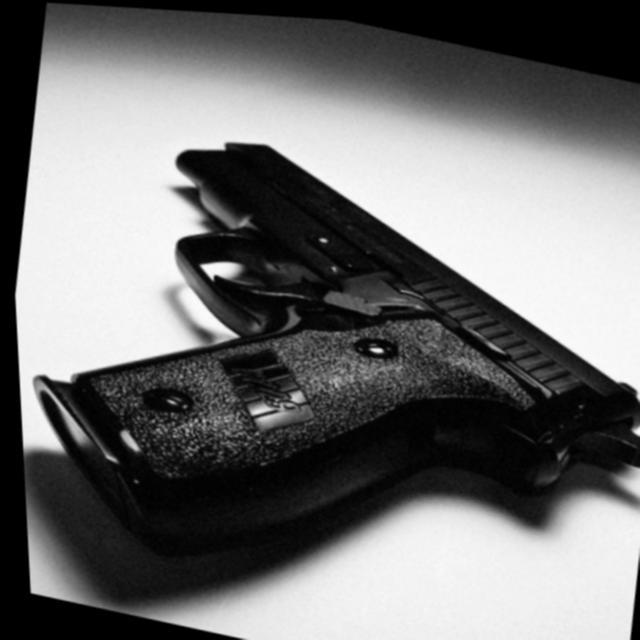weapon: (4, 94, 640, 640)
